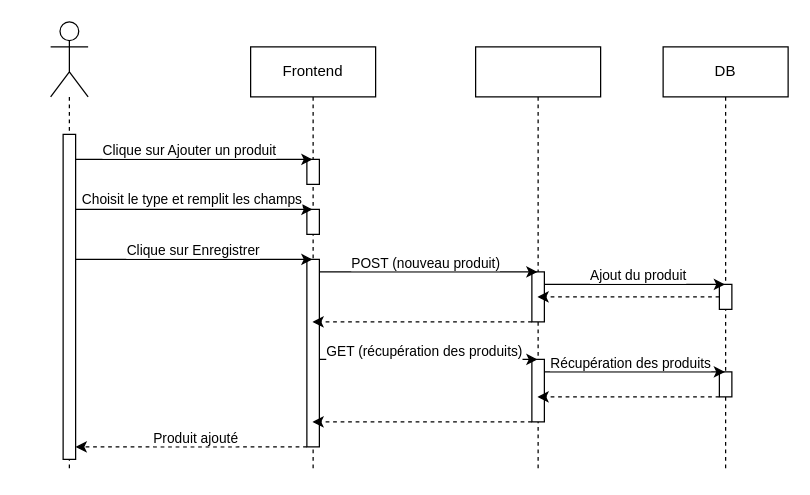
Some shapes in this 810 by 495 pixel diagram are drawn without their labels. Each missing label, with the centre of its shape:
Administrateur: [68,59]
Backend: [537,259]
